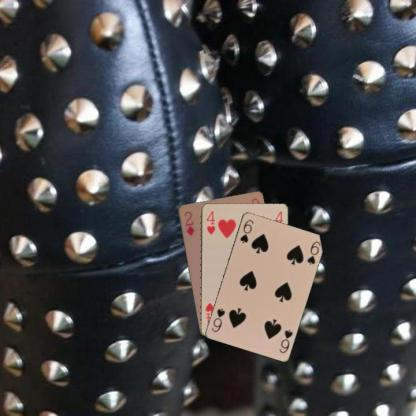2d: (181, 208, 196, 237)
4h: (204, 208, 216, 236)
6s: (276, 327, 294, 354), (238, 217, 254, 244)
